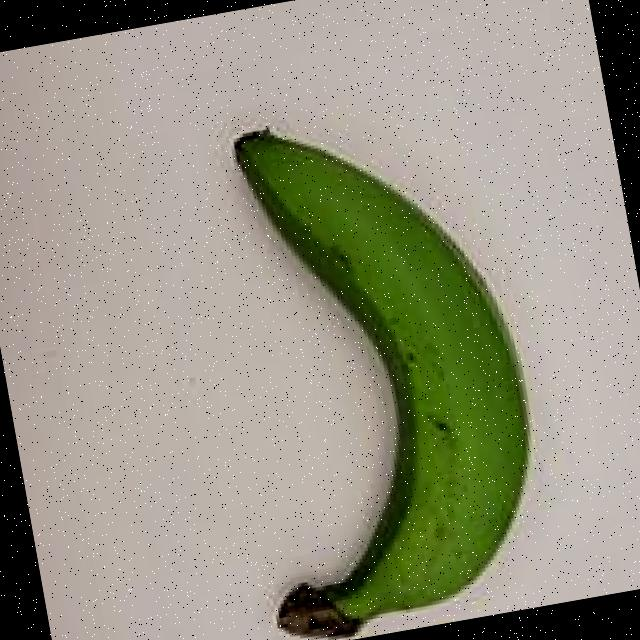Raw: (126, 57, 593, 640)
